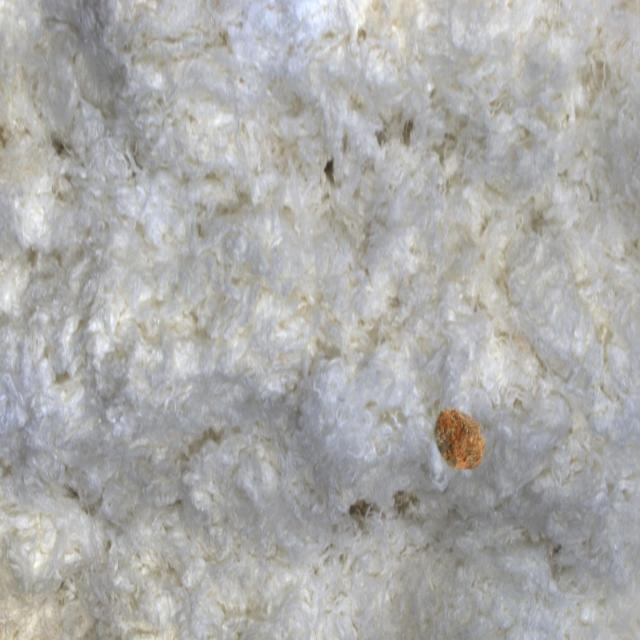dust: (412, 380, 516, 502)
